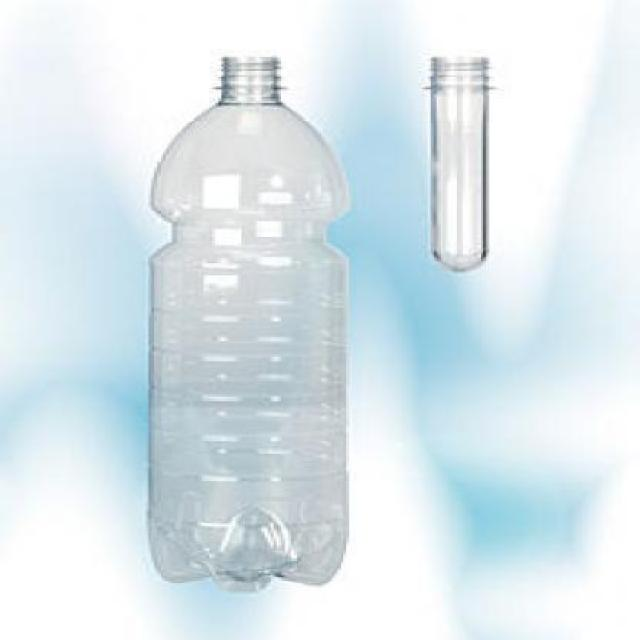bottle: (138, 30, 362, 608)
